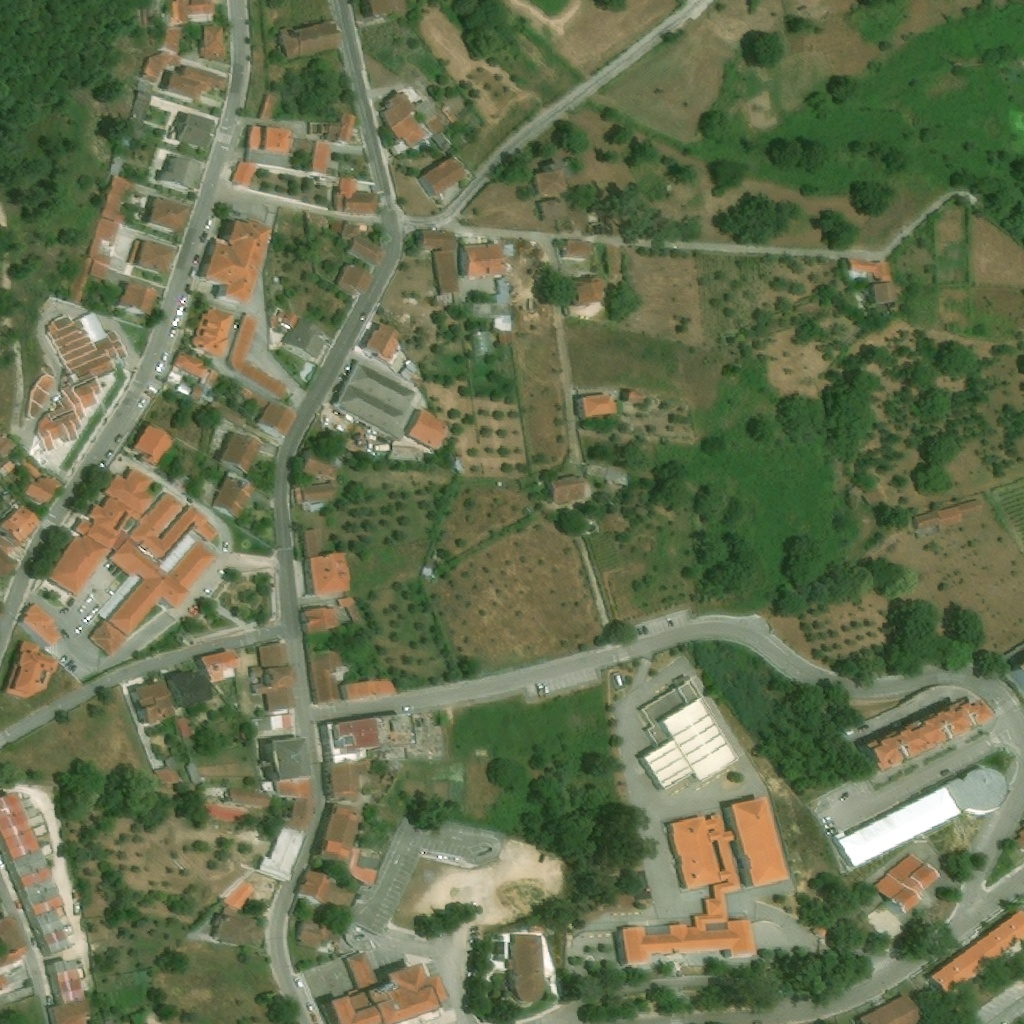0 no-damage: (621, 795, 792, 963), (88, 492, 218, 656), (353, 813, 506, 936), (831, 765, 1008, 868), (46, 467, 154, 595), (0, 791, 78, 957), (36, 313, 128, 450), (636, 672, 741, 790), (863, 695, 995, 769), (327, 949, 452, 1023), (928, 910, 1023, 998), (335, 361, 417, 439), (205, 218, 273, 302), (225, 312, 287, 398), (871, 853, 943, 914), (4, 638, 60, 699), (949, 977, 1023, 1023), (247, 643, 296, 712), (45, 957, 93, 1023), (379, 91, 425, 157), (269, 736, 313, 799), (319, 802, 364, 861), (278, 21, 343, 61), (418, 231, 459, 294), (205, 369, 263, 412), (337, 220, 387, 269), (506, 934, 543, 999), (188, 306, 234, 356), (63, 254, 108, 305), (162, 666, 214, 709), (11, 459, 59, 505), (848, 260, 898, 304), (911, 499, 981, 530), (98, 173, 137, 226), (473, 277, 512, 330), (307, 551, 351, 597), (859, 994, 928, 1023), (415, 157, 465, 197), (211, 473, 255, 518), (143, 196, 192, 236), (209, 912, 264, 947), (126, 238, 178, 275), (407, 407, 450, 451), (279, 317, 326, 357), (167, 66, 227, 97), (219, 432, 262, 475), (261, 835, 304, 878), (135, 680, 176, 725), (132, 424, 175, 466), (21, 603, 63, 646), (122, 80, 153, 138), (309, 650, 340, 704), (156, 153, 201, 190), (84, 217, 119, 264), (362, 322, 403, 362), (0, 503, 41, 542), (256, 400, 298, 438), (462, 242, 507, 277), (295, 918, 343, 950), (335, 716, 380, 750), (116, 281, 159, 316), (177, 112, 216, 149), (296, 866, 333, 905), (199, 648, 240, 683), (139, 51, 182, 83), (26, 373, 55, 419), (0, 951, 29, 995), (246, 125, 290, 153), (332, 760, 367, 795), (343, 677, 395, 700), (0, 915, 26, 960), (301, 604, 338, 635), (425, 115, 453, 153), (342, 262, 375, 294), (572, 274, 606, 305), (294, 482, 340, 504), (227, 785, 270, 808), (198, 25, 226, 60), (171, 351, 208, 377), (324, 113, 356, 142), (535, 169, 568, 197), (586, 465, 630, 486), (552, 476, 585, 503), (152, 753, 180, 784), (302, 455, 334, 482), (537, 196, 569, 222), (582, 394, 618, 417), (208, 400, 241, 425), (343, 191, 378, 213), (308, 141, 331, 174), (290, 798, 313, 830), (231, 159, 256, 186), (0, 548, 18, 580), (301, 529, 319, 557), (257, 92, 274, 120), (602, 246, 617, 277), (163, 25, 180, 52), (563, 240, 590, 256), (184, 761, 201, 786), (174, 716, 191, 739), (397, 362, 417, 381), (0, 533, 15, 554), (339, 174, 355, 191), (497, 330, 512, 345), (624, 389, 642, 401), (189, 385, 202, 400), (492, 941, 504, 957), (337, 598, 353, 608), (420, 566, 432, 577)
4 un-classified: (171, 0, 220, 22), (1004, 663, 1023, 699), (369, 0, 409, 16), (0, 435, 18, 457), (1009, 828, 1023, 849), (0, 497, 10, 514)
